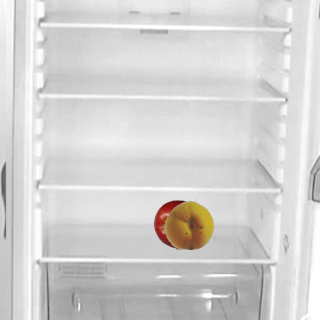Apple Braeburn: (153, 199, 203, 249)
Peach 2: (164, 199, 214, 249)
